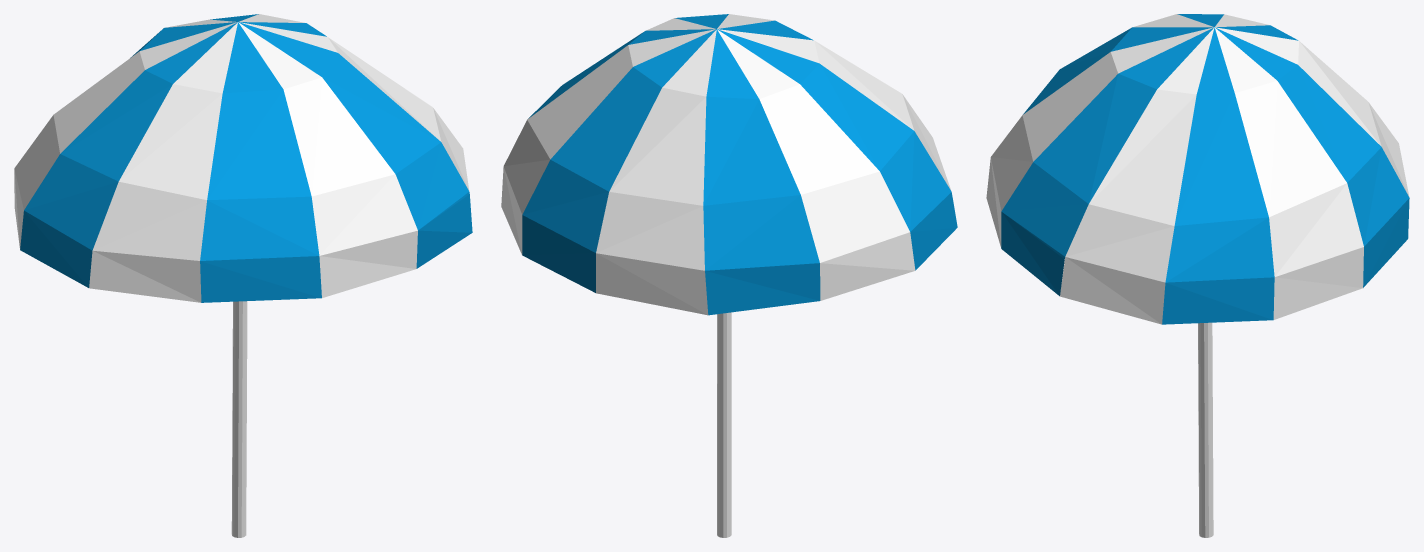
The model's file is BlueUmbrella.glb.
3 renders of one model, left to right at view 1: azimuth 30°, elevation 25°; view 2: azimuth 150°, elevation 25°; view 3: azimuth 270°, elevation 25°, orthographic.
Parts seen in each view (by area): view 1: group822346014, group1776344293; view 2: group822346014, group1776344293; view 3: group822346014, group1776344293.
Part boxes in pixels (x1,y1,x2,y2): group822346014: (14, 14, 472, 302); group1776344293: (231, 301, 247, 537); group822346014: (501, 14, 957, 315); group1776344293: (717, 312, 731, 537); group822346014: (986, 14, 1409, 324); group1776344293: (1198, 322, 1213, 537).
Size of the model in its own units: 0.5675 by 0.6732 by 0.5069.
